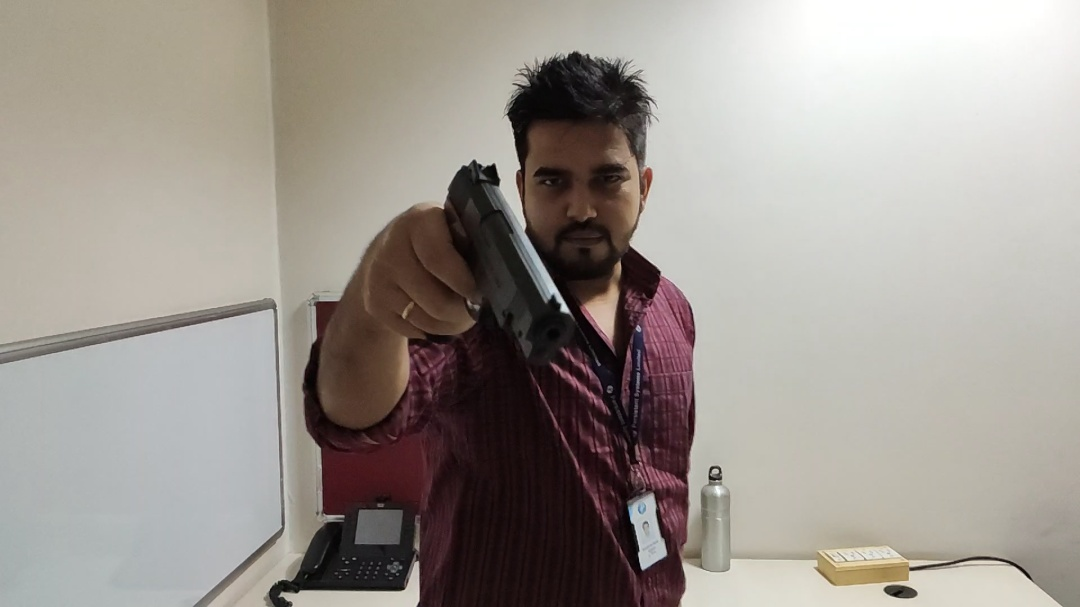gun: (397, 153, 578, 376)
